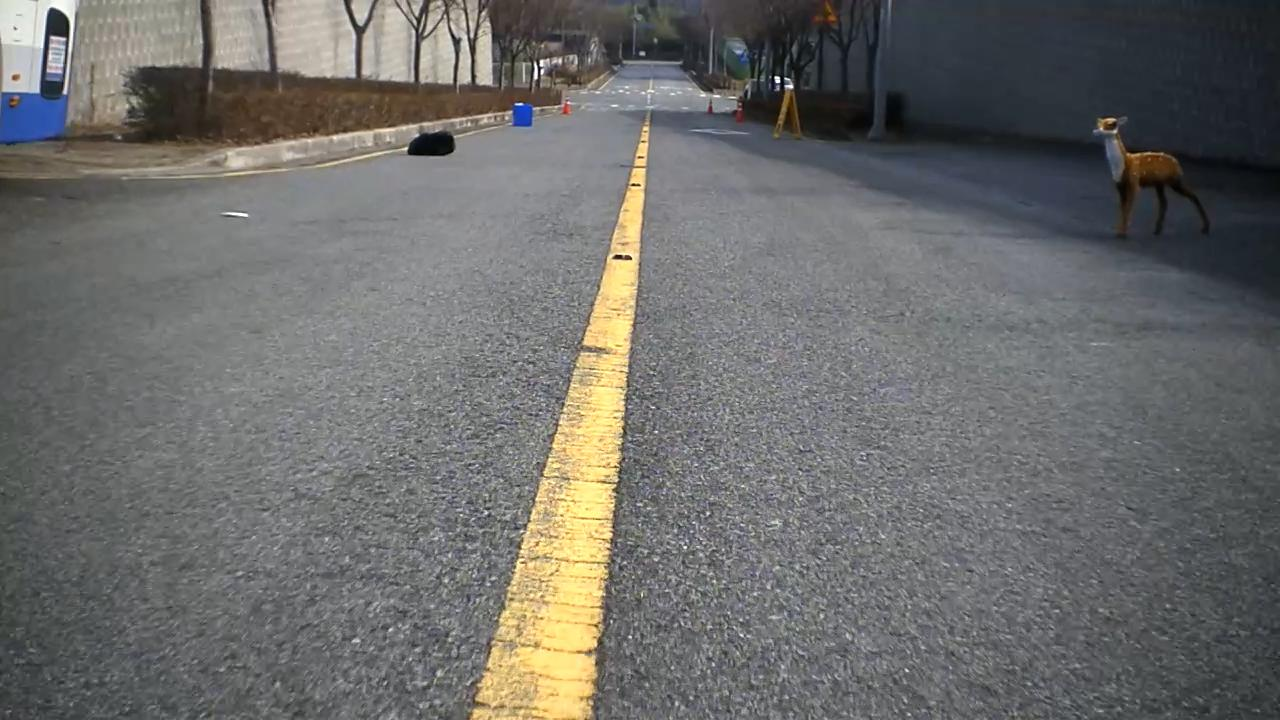stone: (407, 130, 455, 158)
